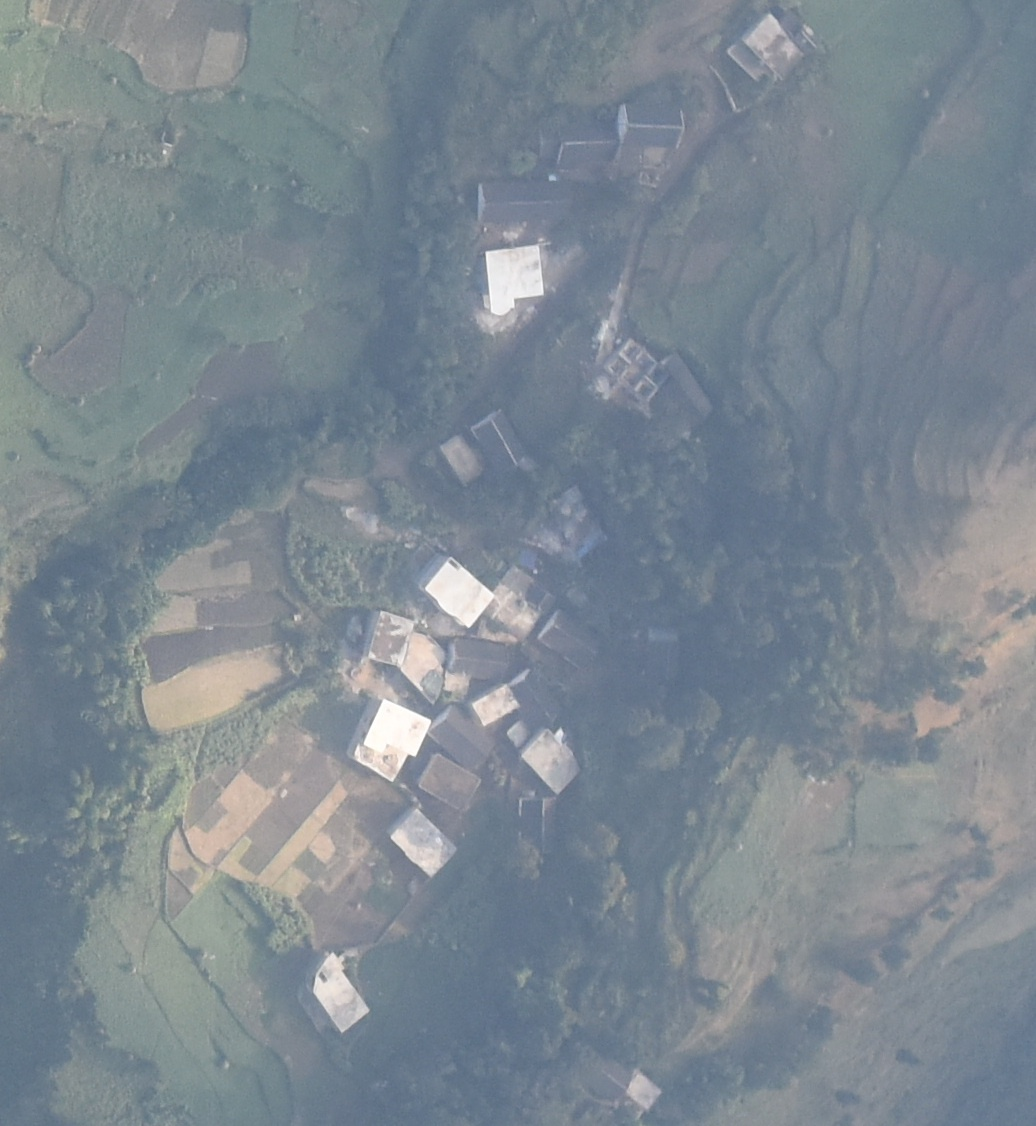building: (348, 697, 430, 780), (724, 12, 804, 90), (482, 565, 554, 650), (416, 555, 494, 627), (386, 808, 460, 878), (588, 1051, 663, 1118), (652, 353, 717, 430), (311, 953, 371, 1035), (430, 702, 497, 769), (603, 340, 672, 405), (477, 180, 577, 224), (484, 244, 545, 314), (521, 729, 584, 794), (471, 409, 529, 470), (541, 610, 604, 666), (419, 754, 482, 810), (617, 102, 687, 148), (445, 636, 513, 682), (513, 670, 566, 727), (552, 122, 621, 164), (364, 611, 415, 665), (518, 797, 564, 852), (438, 434, 482, 486), (471, 686, 520, 726), (508, 720, 533, 748)
